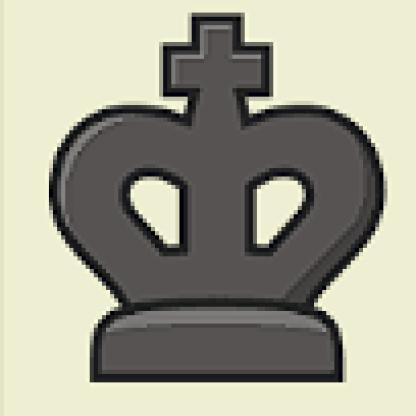Black King: (27, 9, 396, 395)
